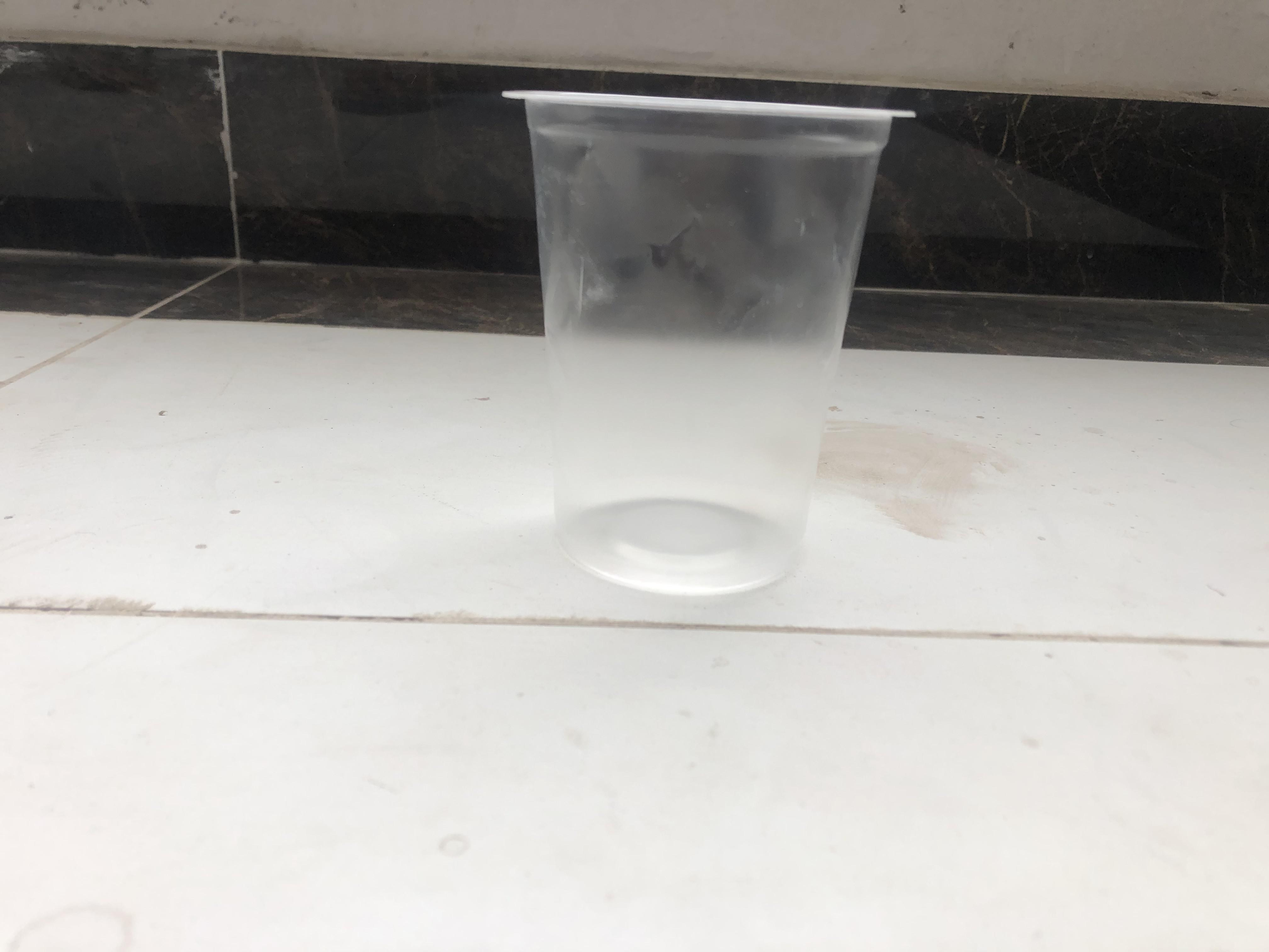cup-disposable: (496, 87, 920, 597)
